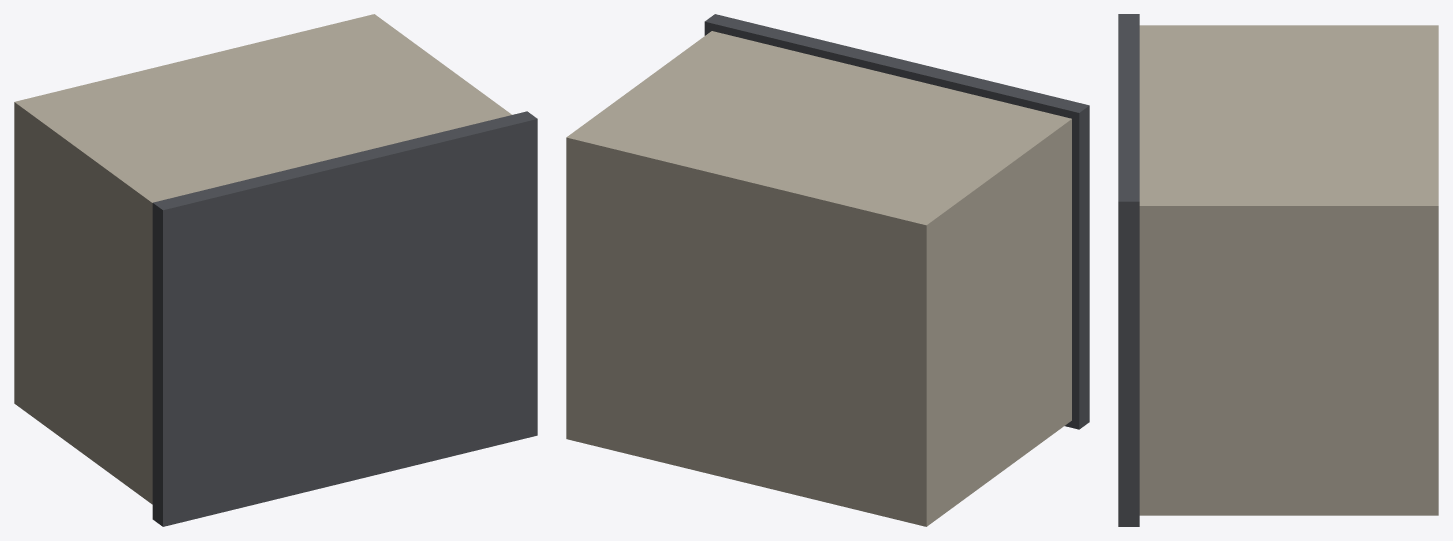
The model's file is building_low.obj.
3 renders of one model, left to right at view 1: azimuth 30°, elevation 25°; view 2: azimuth 150°, elevation 25°; view 3: azimuth 270°, elevation 25°, orthographic. The views are drawn at different scales.
Parts seen in each view (by area): view 1: building_low_roof, building_low_body; view 2: building_low_body, building_low_roof; view 3: building_low_body, building_low_roof.
Part boxes in pixels (x1,y1,x2,y2): building_low_roof: (152,111,537,526); building_low_body: (14,14,511,504); building_low_body: (566,31,1071,526); building_low_roof: (704,14,1089,429); building_low_body: (1139,25,1438,515); building_low_roof: (1118,14,1139,526).
Size of the model in its own units: 10.4 by 8.4 by 7.5.
